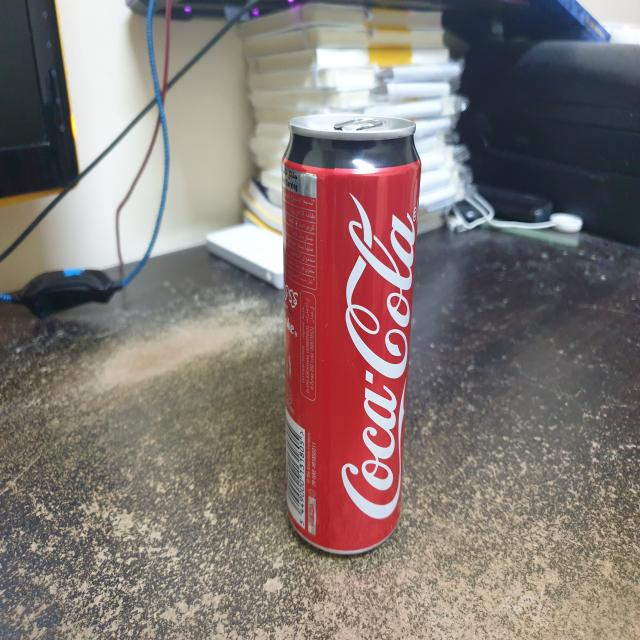non-organic waste: (282, 112, 422, 567)
